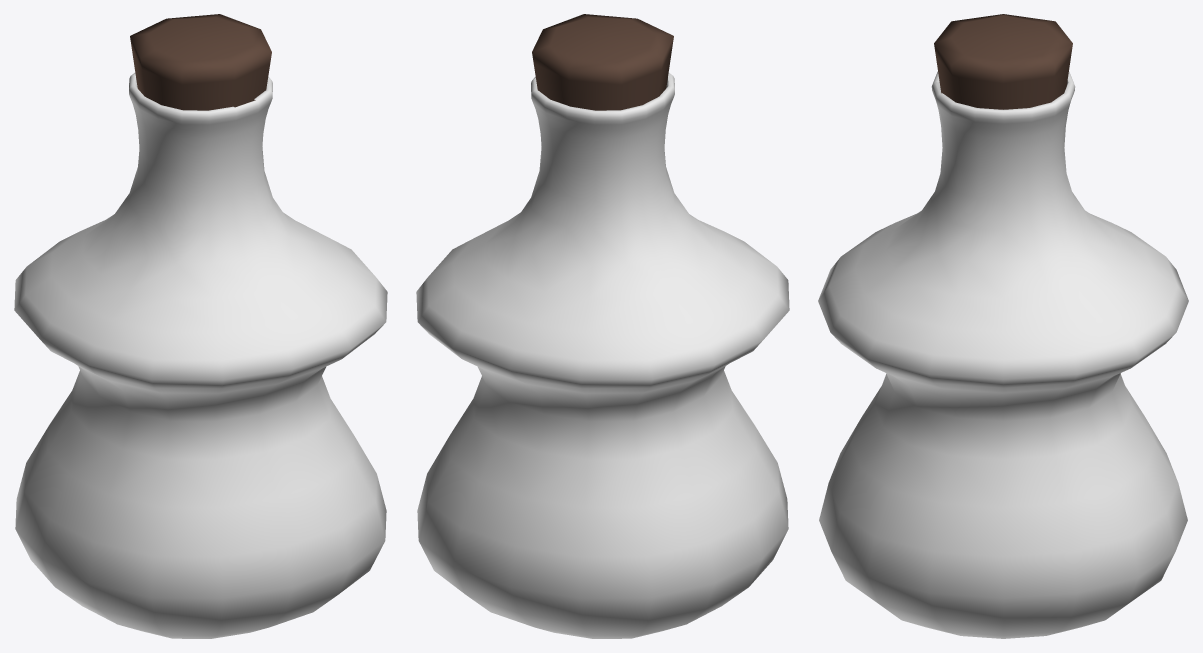
File: Potion4.fbx
3 renders of one model, left to right at view 1: azimuth 30°, elevation 25°; view 2: azimuth 150°, elevation 25°; view 3: azimuth 270°, elevation 25°, orthographic.
Parts seen in each view (by area): view 1: Potion5_Filled; view 2: Potion5_Filled; view 3: Potion5_Filled.
Part boxes in pixels (x1,y1,x2,y2): Potion5_Filled: (14, 14, 387, 638); Potion5_Filled: (416, 14, 789, 638); Potion5_Filled: (818, 14, 1188, 638).
Bounding box in the file's own units: 70.81 × 123 × 70.81.
